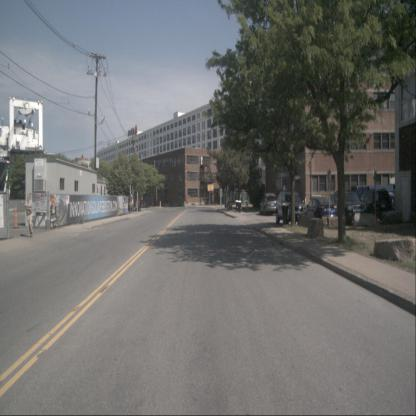cone: (12, 204, 19, 229), (376, 216, 379, 226)
